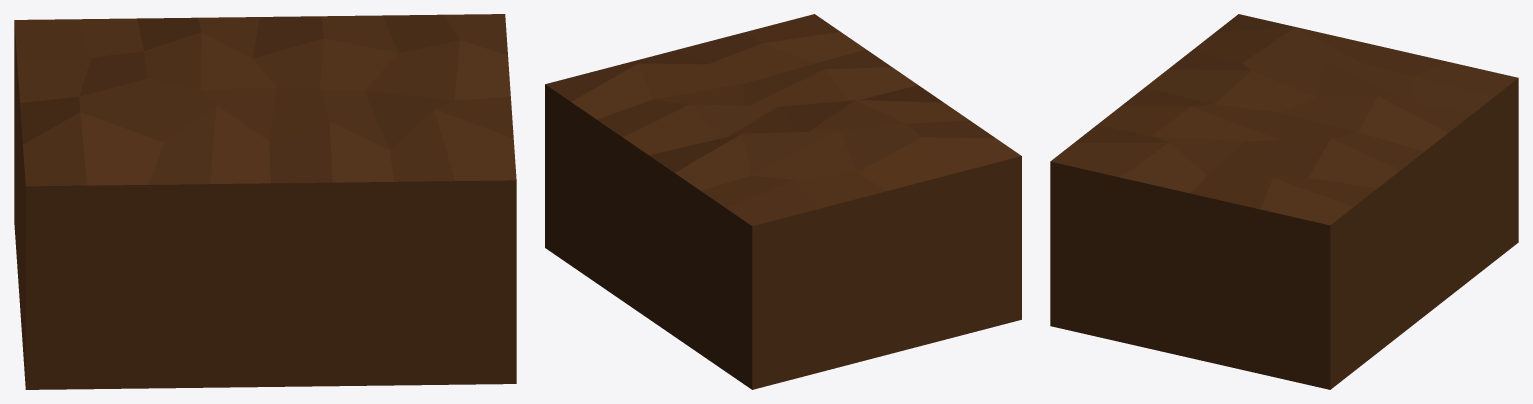
File: S_FarmBlock_1.fbx
The picture shows the model from 3 angles, left to right: view 1: azimuth 30°, elevation 25°; view 2: azimuth 150°, elevation 25°; view 3: azimuth 270°, elevation 25°; orthographic projection. The views are drawn at different scales.
Parts seen in each view (by area): view 1: FarmBlock_1; view 2: FarmBlock_1; view 3: FarmBlock_1.
Part boxes in pixels (left/top/right/bottom): FarmBlock_1: left=14, top=14, right=516, bottom=389; FarmBlock_1: left=545, top=14, right=1021, bottom=389; FarmBlock_1: left=1050, top=14, right=1518, bottom=389.
Size of the model in its own units: 551 by 226 by 516.
